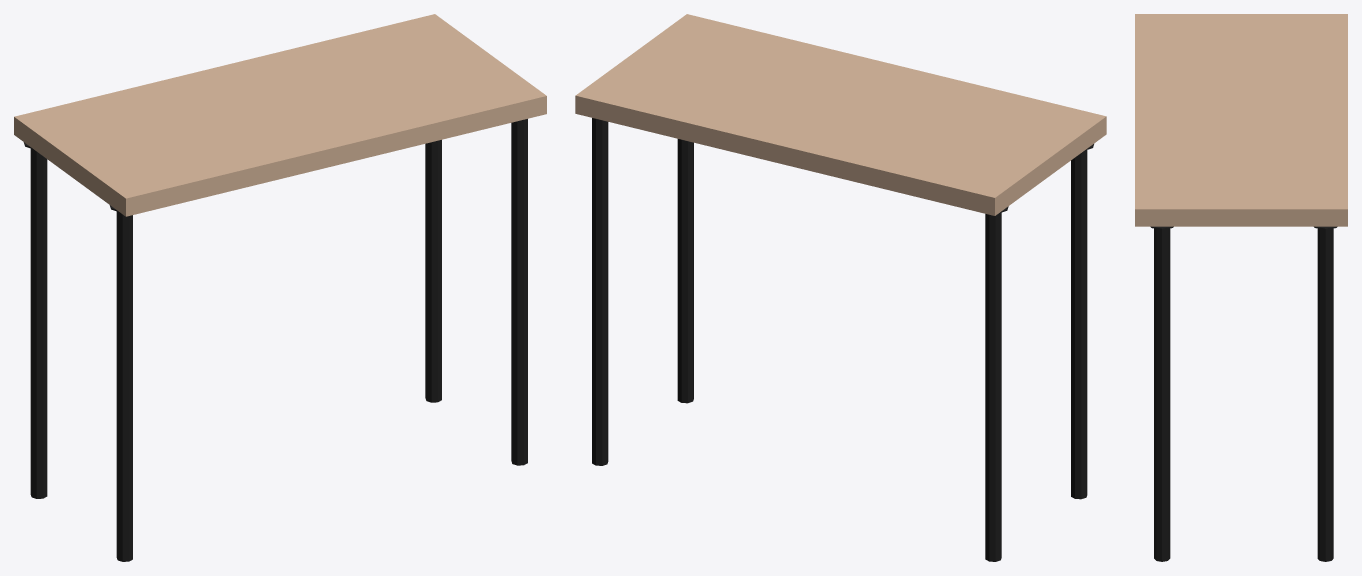
The model's file is shorttable.gltf.
The picture shows the model from 3 angles, left to right: view 1: azimuth 30°, elevation 25°; view 2: azimuth 150°, elevation 25°; view 3: azimuth 270°, elevation 25°; orthographic projection. The views are drawn at different scales.
Visible parts, largest first — view 1: Cube; view 2: Cube; view 3: Cube.
Part boxes in pixels (left/top/right/bottom): Cube: left=14, top=14, right=546, bottom=561; Cube: left=575, top=14, right=1106, bottom=561; Cube: left=1135, top=14, right=1347, bottom=561.
Size of the model in its own units: 1 by 0.8479 by 0.4604.
1 material, 1 textured.
